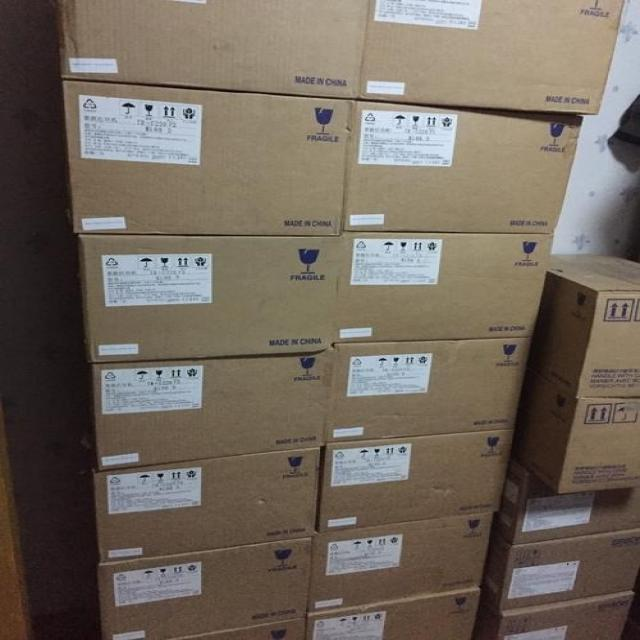box: (0, 79, 354, 291), (0, 233, 337, 423), (1, 354, 332, 492), (1, 2, 369, 118), (16, 445, 326, 568), (341, 100, 586, 233), (29, 532, 313, 637), (355, 3, 626, 112), (332, 232, 557, 343), (326, 335, 530, 442), (313, 427, 516, 531), (309, 511, 498, 614), (512, 352, 639, 496), (525, 252, 639, 396), (491, 455, 639, 545), (484, 527, 639, 610), (468, 584, 639, 639), (306, 589, 479, 639), (183, 612, 307, 639)
